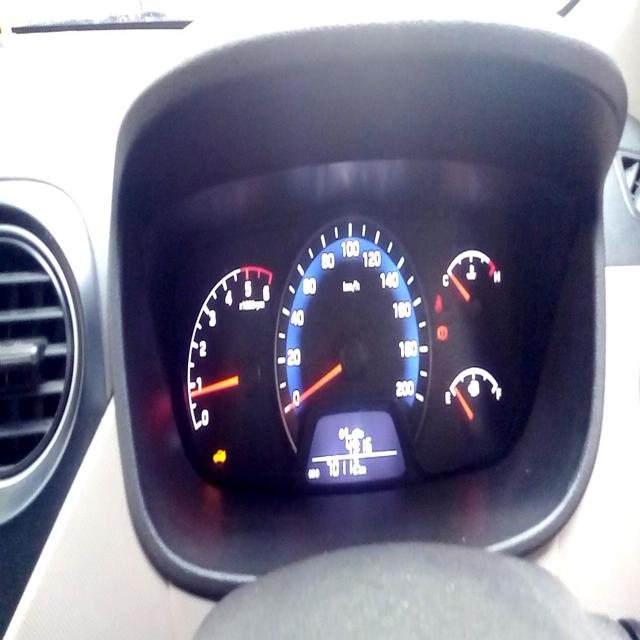odometer: (326, 454, 361, 478)
